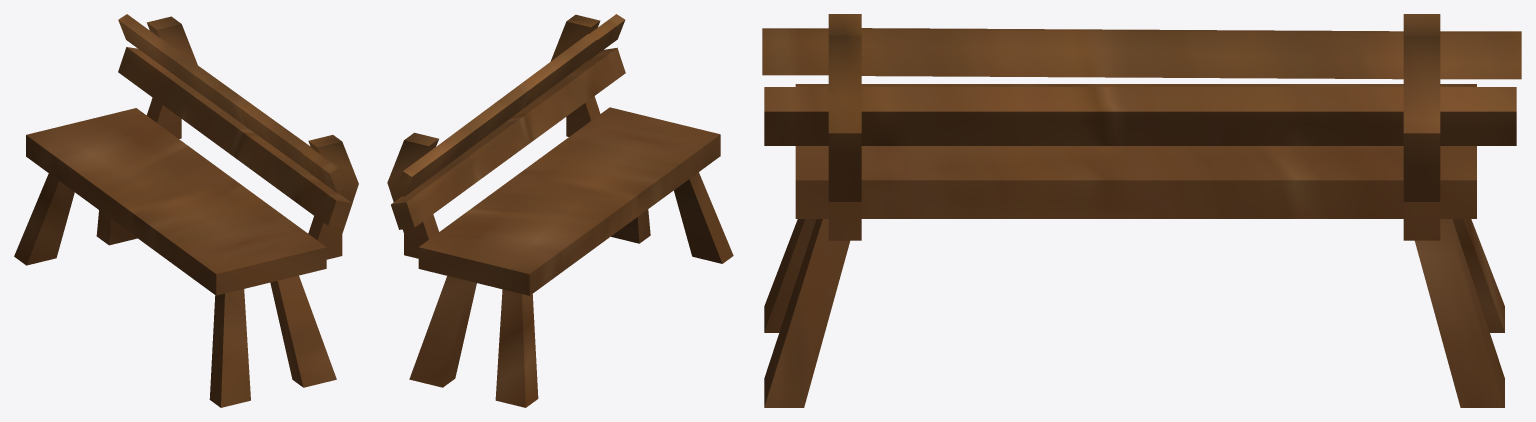
Rendered from bank.fbx.
3 renders of one model, left to right at view 1: azimuth 30°, elevation 25°; view 2: azimuth 150°, elevation 25°; view 3: azimuth 270°, elevation 25°, orthographic. The views are drawn at different scales.
Parts seen in each view (by area): view 1: Cube.001; view 2: Cube.001; view 3: Cube.001.
Part boxes in pixels (left/top/right/bottom): Cube.001: left=14, top=14, right=358, bottom=407; Cube.001: left=387, top=14, right=733, bottom=407; Cube.001: left=762, top=14, right=1521, bottom=407.
Size of the model in its own units: 334 by 449 by 787.
1 material, 1 textured.
